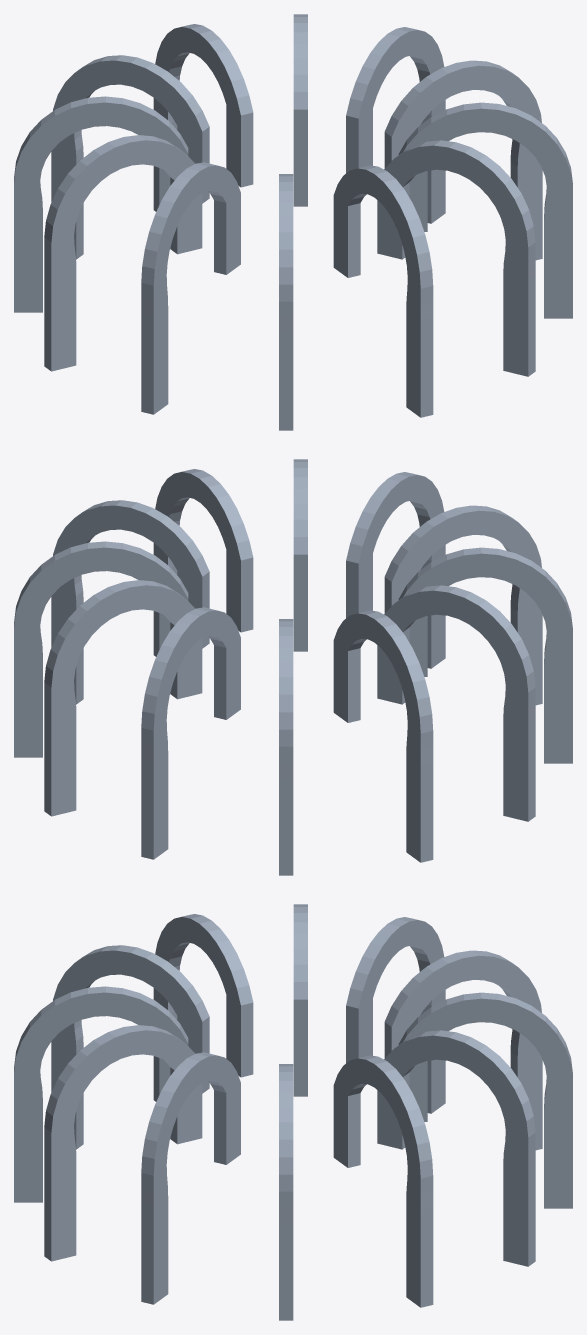
File: chuchu-illu-1.fbx
3 views of the same model, one above another, from view 1: azimuth 30°, elevation 25°; view 2: azimuth 150°, elevation 25°; view 3: azimuth 270°, elevation 25° (orthographic).
Visible parts, largest first — view 1: Cube, Cube.004, Cube.005, Cube.003, Cube.001, Cube.011, Cube.006, Cube.010, Cube.007, Cube.009, Cube.002, Cube.008; view 2: Cube.008, Cube, Cube.001, Cube.011, Cube.009, Cube.007, Cube.002, Cube.006, Cube.003, Cube.005, Cube.010, Cube.004; view 3: Cube.004, Cube.008, Cube.009, Cube.007, Cube.005, Cube.003, Cube.010, Cube.002, Cube.011, Cube.001, Cube.006, Cube.
Boxes of the visible parts, x1,y1,x2,y2 form: Cube: (44, 135, 202, 371); Cube.004: (377, 140, 535, 376); Cube.005: (398, 102, 572, 318); Cube.003: (333, 165, 433, 417); Cube.001: (141, 162, 240, 414); Cube.011: (14, 96, 188, 312); Cube.006: (384, 60, 542, 260); Cube.010: (51, 55, 209, 259); Cube.007: (346, 27, 445, 223); Cube.009: (153, 24, 253, 211); Cube.002: (279, 174, 293, 430); Cube.008: (293, 14, 307, 206); Cube.008: (44, 580, 202, 816); Cube: (377, 585, 535, 821); Cube.001: (398, 547, 572, 763); Cube.011: (333, 610, 433, 862); Cube.009: (141, 607, 240, 859); Cube.007: (14, 541, 188, 757); Cube.002: (384, 505, 542, 705); Cube.006: (51, 500, 209, 704); Cube.003: (346, 472, 445, 668); Cube.005: (153, 469, 253, 656); Cube.010: (279, 619, 293, 875); Cube.004: (293, 459, 307, 651); Cube.004: (44, 1025, 202, 1261); Cube.008: (377, 1030, 535, 1266); Cube.009: (398, 992, 572, 1208); Cube.007: (333, 1055, 433, 1307); Cube.005: (141, 1052, 240, 1304); Cube.003: (14, 986, 188, 1202); Cube.010: (384, 950, 542, 1150); Cube.002: (51, 945, 209, 1149); Cube.011: (346, 917, 445, 1113); Cube.001: (153, 914, 253, 1101); Cube.006: (279, 1064, 293, 1320); Cube: (293, 904, 307, 1096).
Size of the model in its own units: 774 by 321 by 774.
